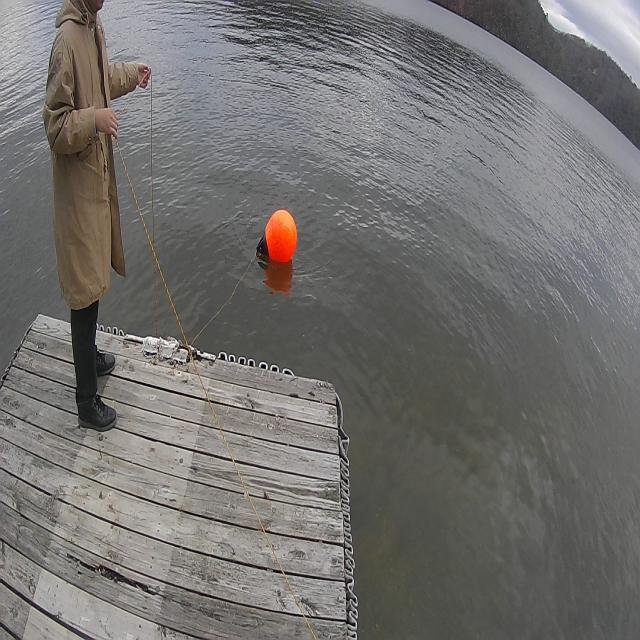Buoy: (255, 200, 301, 274)
